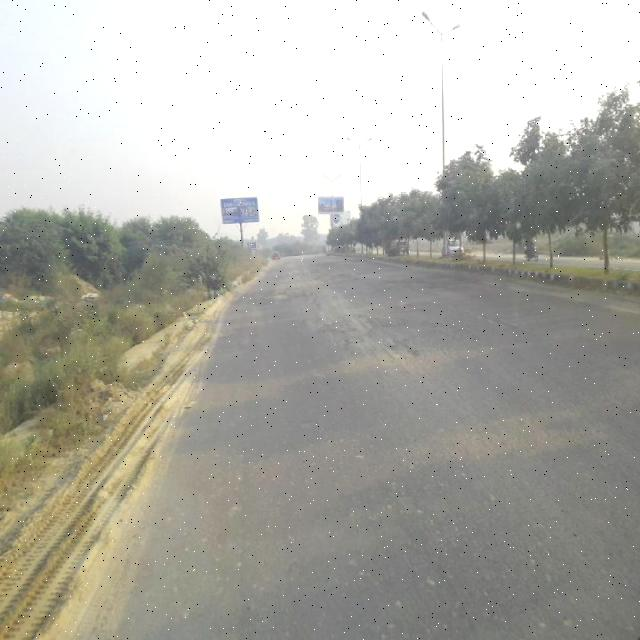D00: (453, 299, 545, 341)
D40: (378, 334, 426, 369), (328, 317, 376, 352), (258, 281, 306, 315)
